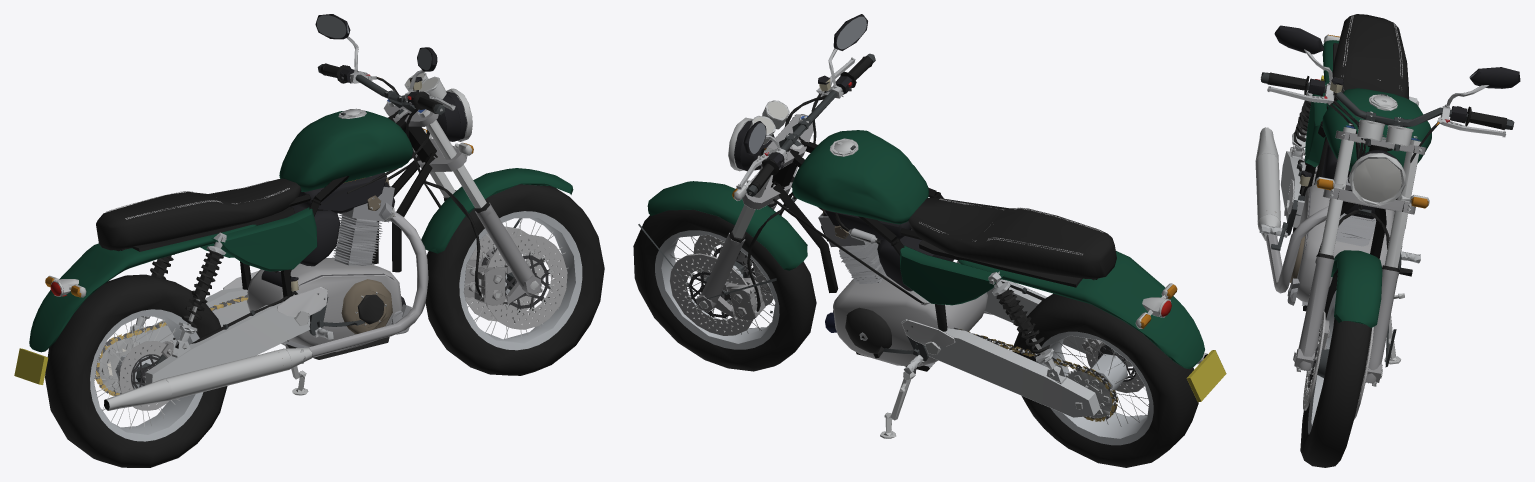
The model's file is SM_Prop_house_bike_3.glb.
The picture shows the model from 3 angles, left to right: view 1: azimuth 30°, elevation 25°; view 2: azimuth 150°, elevation 25°; view 3: azimuth 270°, elevation 25°; orthographic projection. The views are drawn at different scales.
Visible parts, largest first — view 1: SM_Prop_house_bike_3; view 2: SM_Prop_house_bike_3; view 3: SM_Prop_house_bike_3.
Boxes of the visible parts, left/top/right/bottom form: SM_Prop_house_bike_3: left=14, top=14, right=604, bottom=467; SM_Prop_house_bike_3: left=633, top=14, right=1226, bottom=467; SM_Prop_house_bike_3: left=1255, top=14, right=1520, bottom=467.
Bounding box in the file's own units: 2.19 × 1.32 × 0.8399.
